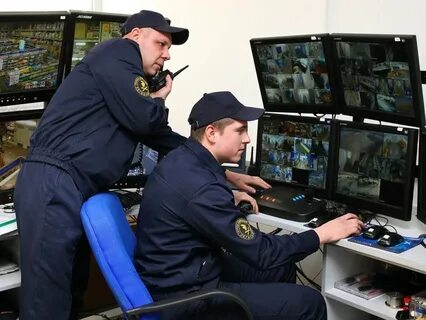awake: (11, 9, 190, 320), (135, 90, 328, 320)
